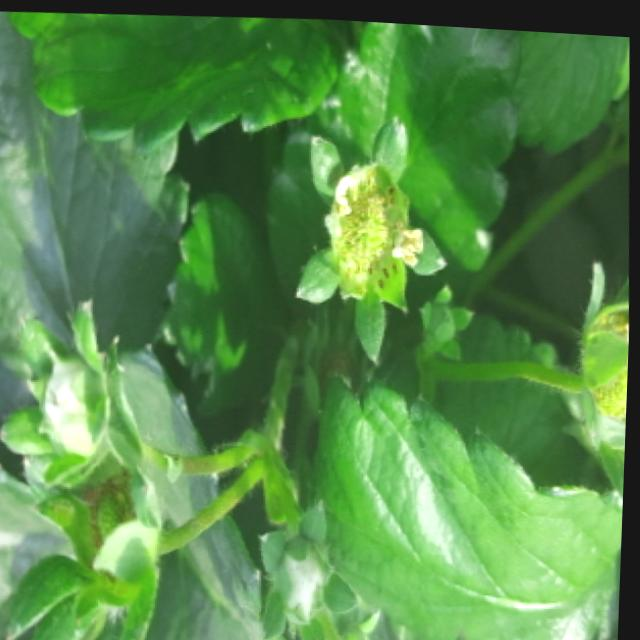Blossom Blight: (327, 160, 425, 286)
